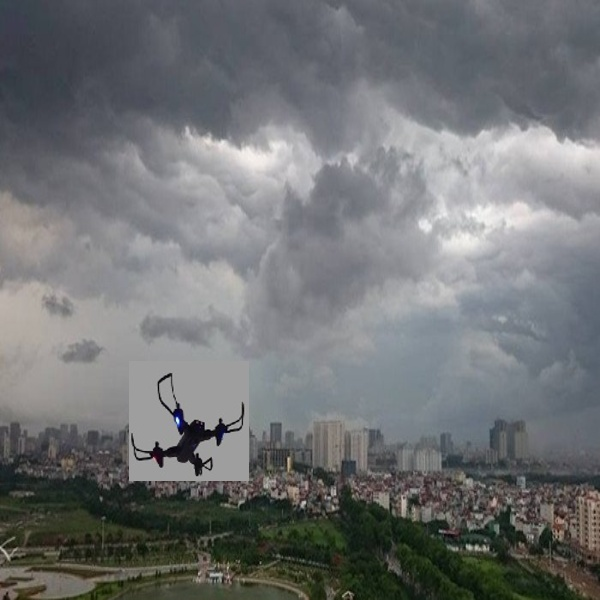drone: (134, 364, 247, 478)
